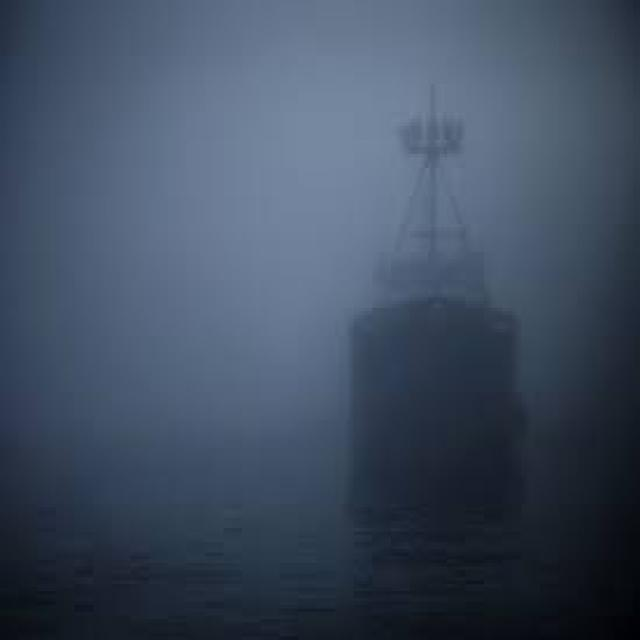fishing boat: (332, 95, 538, 531)
